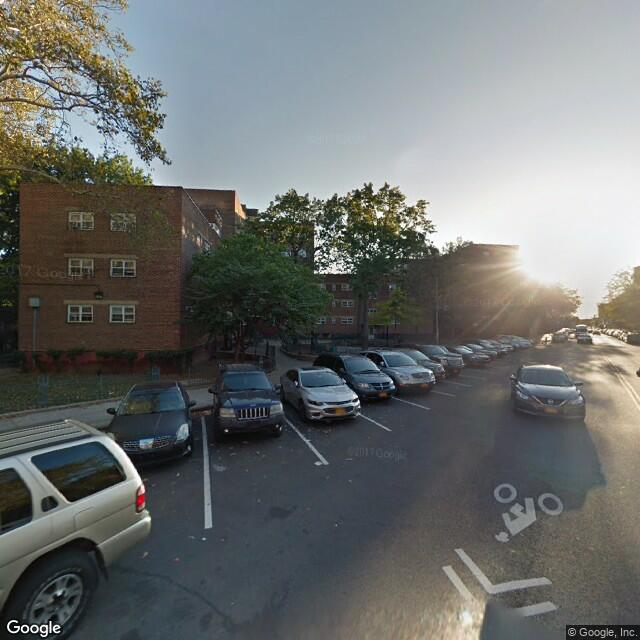litter: (313, 458, 322, 467), (171, 554, 182, 561), (173, 471, 181, 477), (201, 536, 208, 540)
